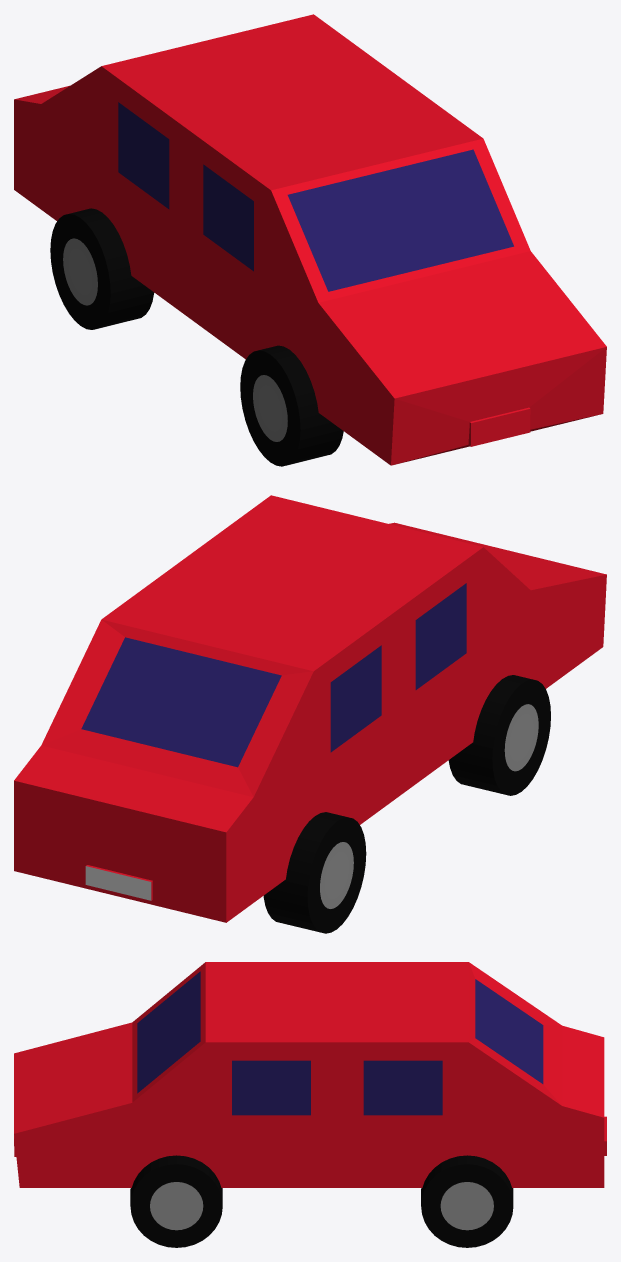
Rendered from carYZ 1.fbx.
The picture shows the model from 3 angles, top to bottom: view 1: azimuth 30°, elevation 25°; view 2: azimuth 150°, elevation 25°; view 3: azimuth 270°, elevation 25°; orthographic projection. The views are drawn at different scales.
Visible parts, largest first — view 1: car; view 2: car; view 3: car.
Boxes of the visible parts, x1,y1,x2,y2 form: car: [14, 14, 606, 466]; car: [14, 495, 606, 933]; car: [14, 962, 606, 1247].
Bounding box in the file's own units: 151 × 142 × 388.
